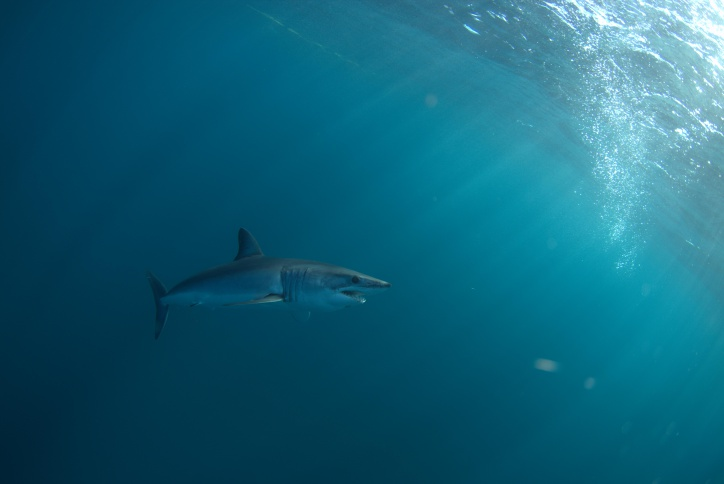Mako: (142, 225, 400, 346)
